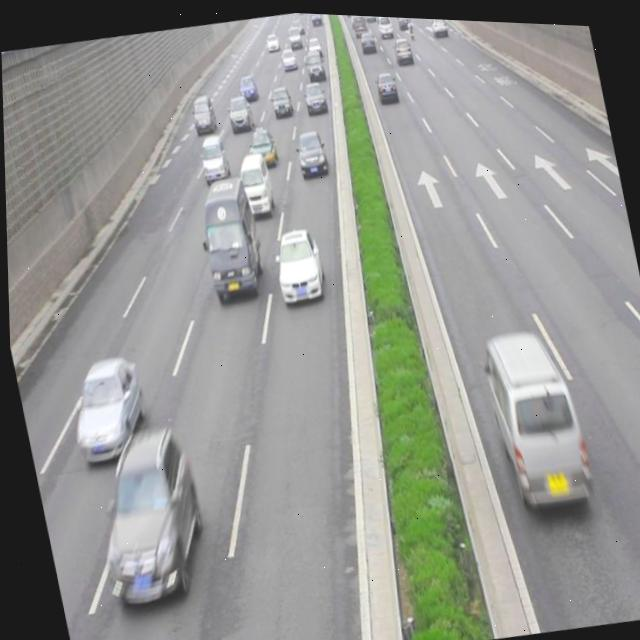car: (80, 418, 211, 608), (59, 348, 150, 464), (266, 221, 325, 303), (292, 125, 328, 176), (245, 122, 277, 167), (223, 90, 253, 132), (188, 90, 216, 133), (300, 75, 326, 113), (372, 65, 398, 100), (267, 82, 292, 116)
truck: (472, 316, 591, 511), (190, 169, 266, 301), (233, 149, 275, 217), (194, 130, 231, 184)
